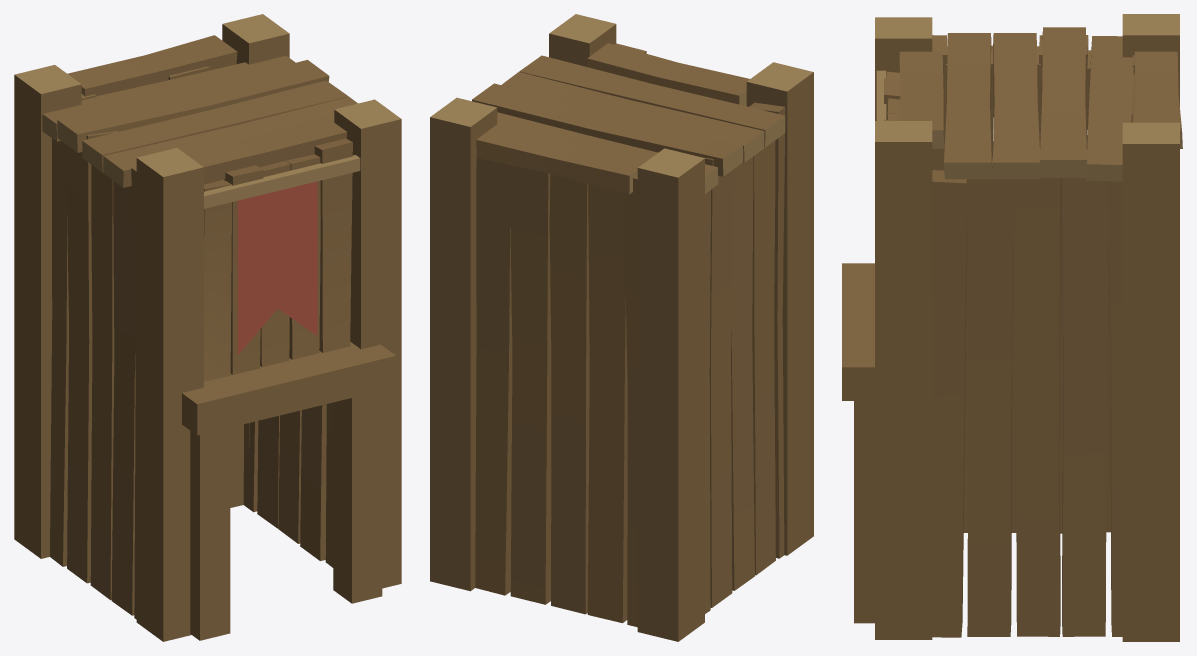
The model's file is Small Watch Tower.glb.
The picture shows the model from 3 angles, left to right: view 1: azimuth 30°, elevation 25°; view 2: azimuth 150°, elevation 25°; view 3: azimuth 270°, elevation 25°; orthographic projection. The views are drawn at different scales.
Visible parts, largest first — view 1: WatchTower_FirstAge_Level1; view 2: WatchTower_FirstAge_Level1; view 3: WatchTower_FirstAge_Level1.
Boxes of the visible parts, x1,y1,x2,y2 form: WatchTower_FirstAge_Level1: (14,14,401,641); WatchTower_FirstAge_Level1: (430,14,813,641); WatchTower_FirstAge_Level1: (842,14,1182,641).
Bounding box in the file's own units: 0.473 × 0.8373 × 0.5193.
